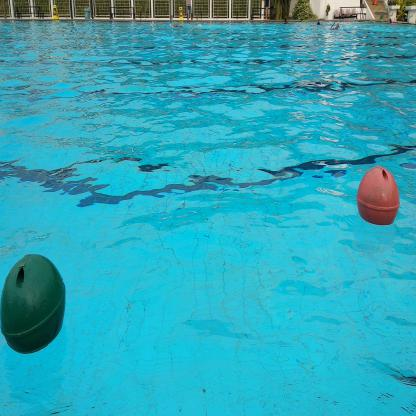green_buoy: (0, 246, 71, 358)
red_buoy: (355, 162, 403, 232)
